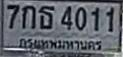0: (74, 6, 86, 30)
1: (91, 7, 98, 30), (106, 7, 113, 30)
4: (60, 5, 71, 29)
7: (6, 4, 19, 28)
A01: (21, 4, 35, 28)
A24: (38, 5, 54, 28)
BKK: (17, 35, 103, 52)
